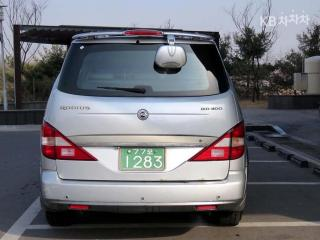1: (123, 154, 132, 169)
2: (133, 154, 144, 170)
3: (153, 154, 164, 169)
7: (132, 147, 140, 155), (140, 148, 146, 157)
8: (142, 156, 154, 169)
plate: (114, 143, 169, 175)
모: (146, 148, 154, 156)
